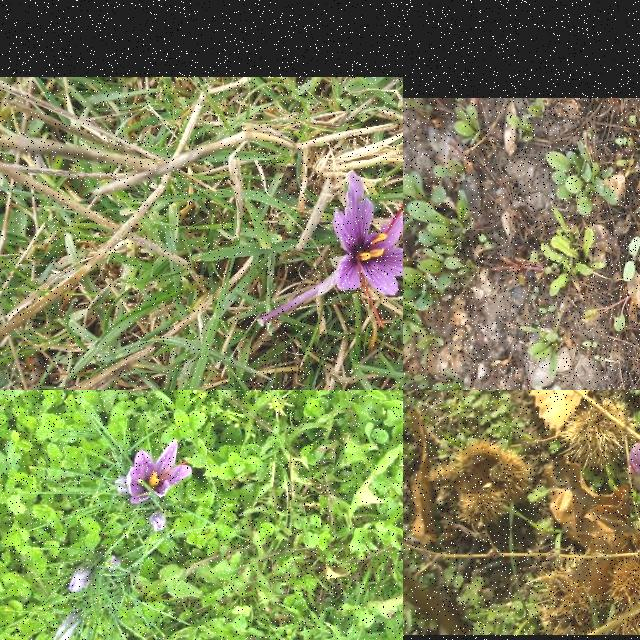flower: (332, 171, 403, 329), (128, 440, 192, 506), (53, 615, 83, 640), (70, 570, 90, 594), (150, 512, 168, 532)
